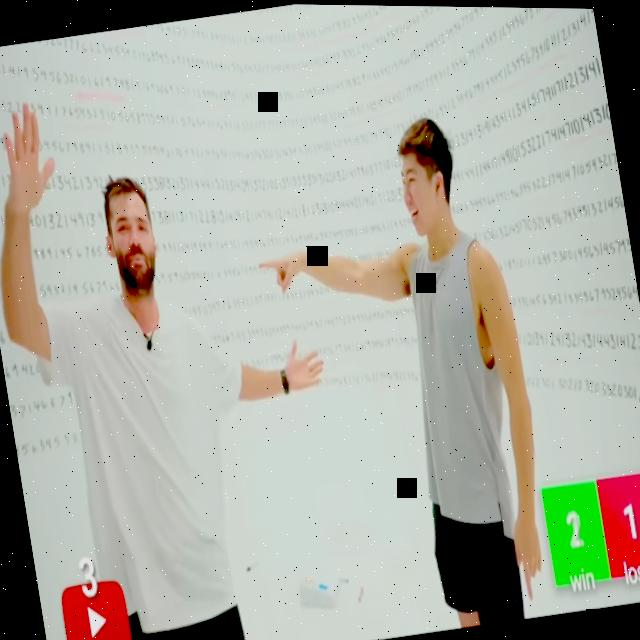Paper: (0, 98, 65, 219)
